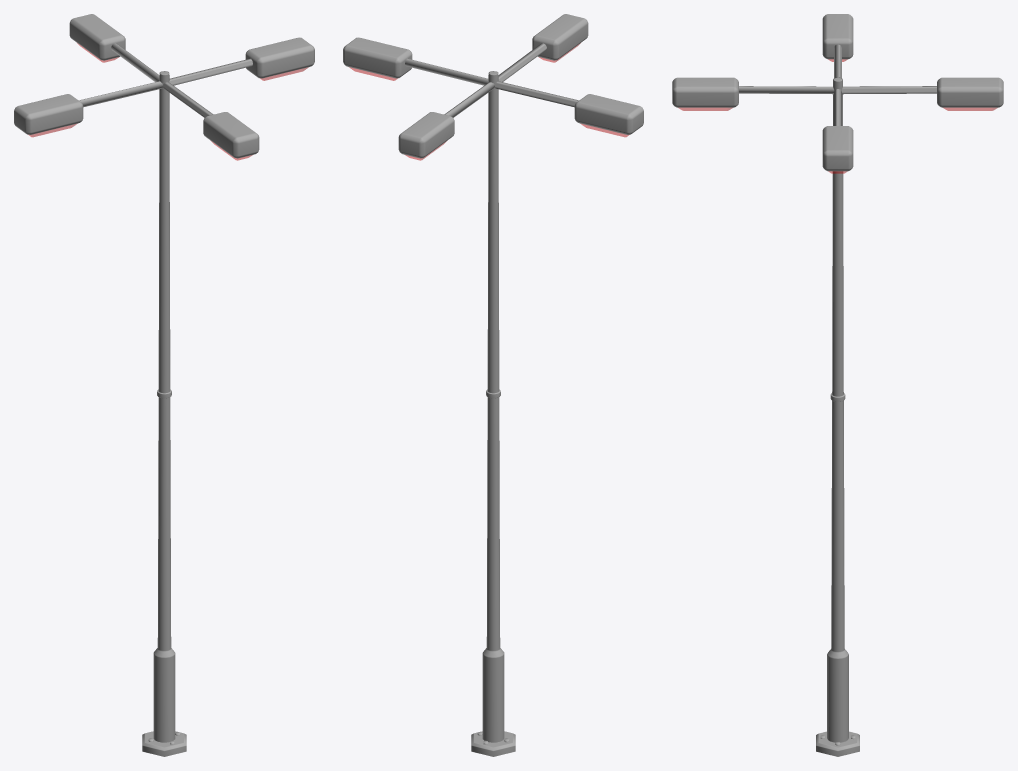
File: StreetLamp.fbx
The picture shows the model from 3 angles, left to right: view 1: azimuth 30°, elevation 25°; view 2: azimuth 150°, elevation 25°; view 3: azimuth 270°, elevation 25°; orthographic projection.
Parts seen in each view (by area): view 1: StreetLamp01_LOD0; view 2: StreetLamp01_LOD0; view 3: StreetLamp01_LOD0.
Boxes of the visible parts, x1,y1,x2,y2 form: StreetLamp01_LOD0: (14, 14, 314, 756); StreetLamp01_LOD0: (343, 14, 643, 756); StreetLamp01_LOD0: (672, 14, 1003, 756).
Size of what is drawn, in the model's own units: 4.32 by 9.58 by 4.32.
